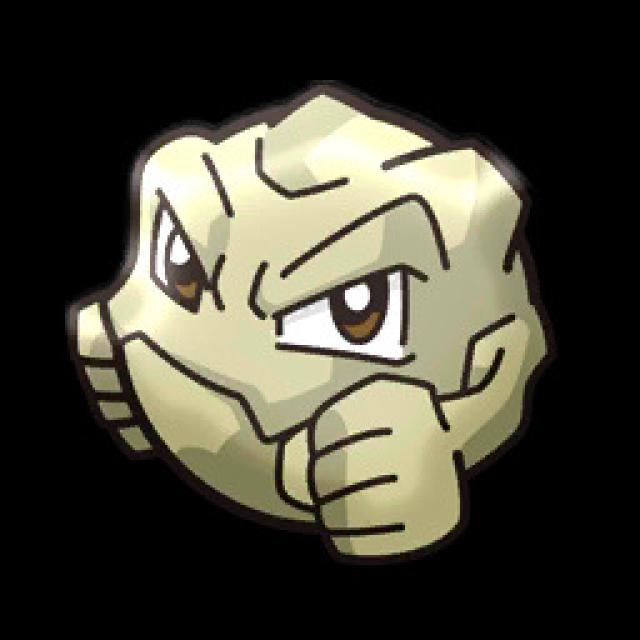Geodude: (73, 87, 550, 555)
